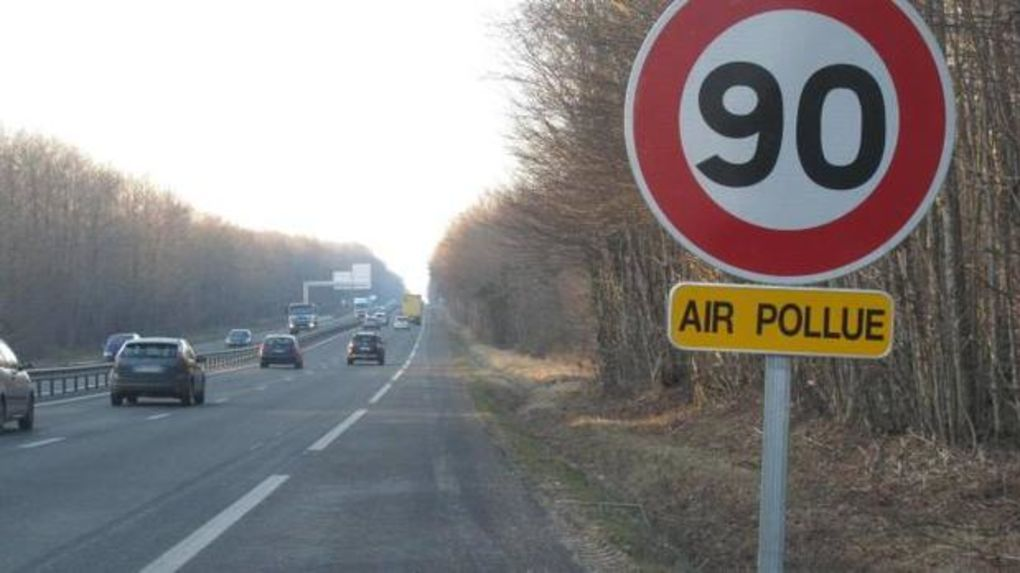Speed_limit_90km: (622, 1, 960, 283)
car: (100, 331, 216, 411), (250, 331, 307, 374), (343, 326, 390, 369)
